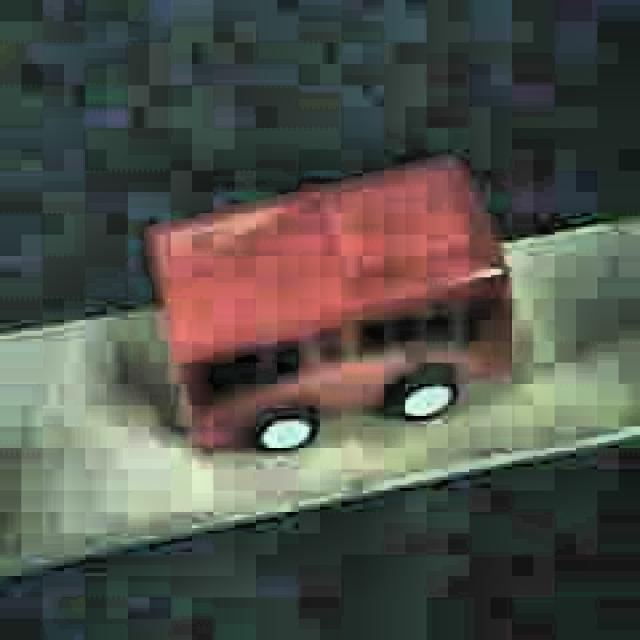bus: (152, 154, 514, 458)
